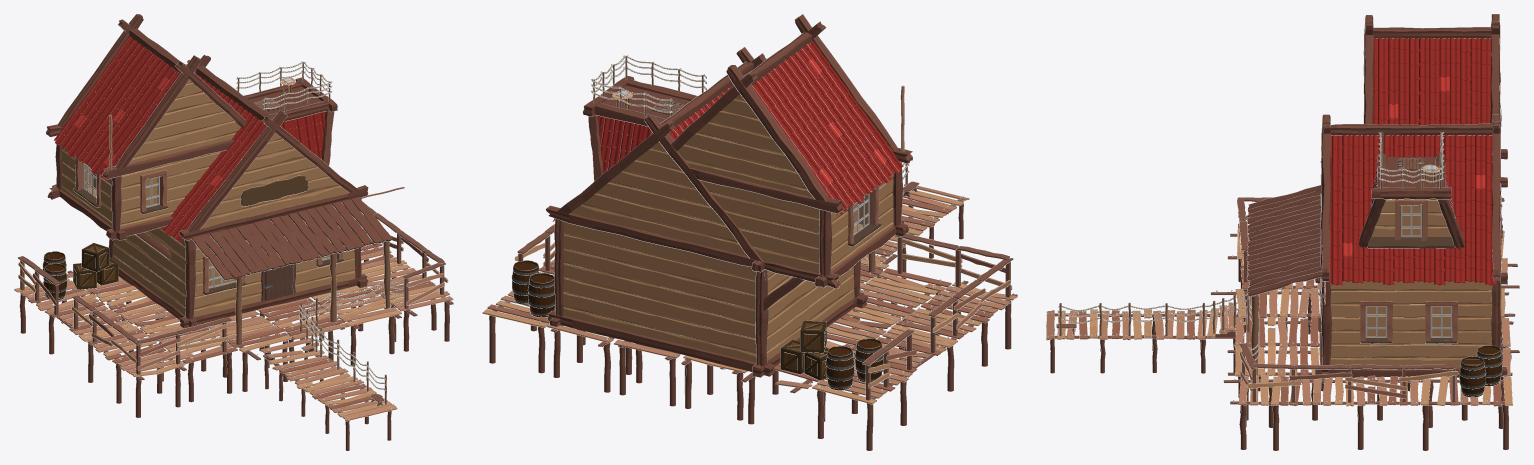
The model's file is hause.glb.
The picture shows the model from 3 angles, left to right: view 1: azimuth 30°, elevation 25°; view 2: azimuth 150°, elevation 25°; view 3: azimuth 270°, elevation 25°; orthographic projection. The views are drawn at different scales.
Parts seen in each view (by area): view 1: test.001; view 2: test.001; view 3: test.001.
Boxes of the visible parts, left/top/right/bottom form: test.001: left=14, top=14, right=453, bottom=450; test.001: left=482, top=14, right=1017, bottom=450; test.001: left=1046, top=14, right=1519, bottom=450.
Bounding box in the file's own units: 19.13 × 16.49 × 21.85.
